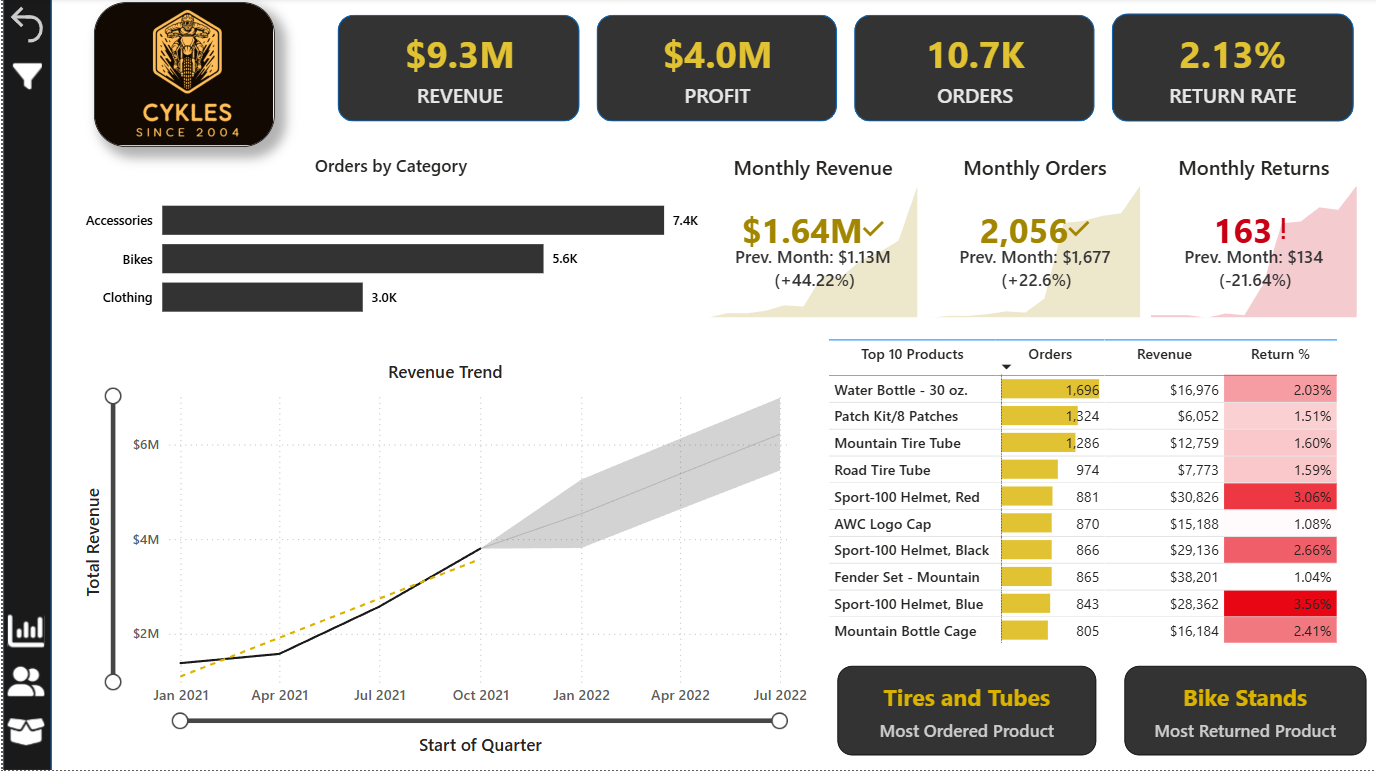

Layout of this report page (visuals, bound fields, positions):
{"tool":"powerbi","page":{"name":"Executive Overview","canvas":[1280,720],"ordinal":0},"visuals":[{"type":"shape","title":"Left Nav BG","box":[0,0,45.4,720.6],"z":0},{"type":"shape","box":[1034.1,14.6,225.6,101.1],"z":0,"group":"g1"},{"type":"group","id":"g1","title":"KPI Backgrounds","box":[312,14.6,947.6,101.1],"z":1000},{"type":"shape","box":[793.9,16.1,224.1,99.6],"z":1000,"group":"g1"},{"type":"actionButton","box":[0,612.9,42.5,46.9],"z":1000,"group":"g3"},{"type":"group","id":"g2","title":"KPI Values","box":[325.1,13.2,922.7,102.5],"z":2000},{"type":"shape","box":[312,16.1,225.6,99.6],"z":2000,"group":"g1"},{"type":"card","fields":{"Values":["Measure Table.Total Revenue"]},"box":[325.1,13.2,202.1,102.5],"z":3000,"group":"g2"},{"type":"shape","box":[553.7,16.1,224.1,99.6],"z":3000,"group":"g1"},{"type":"lineChart","title":"Revenue Trend","fields":{"Y":["Measure Table.Total Revenue"],"Category":["Calendar Lookup.Year","Calendar Lookup.Start of Quarter","Calendar Lookup.Start of Month"]},"box":[70.3,336.9,684,369.1],"z":3000},{"type":"actionButton","box":[0,659.7,42.5,46.9],"z":3000,"group":"g3"},{"type":"card","fields":{"Values":["Measure Table.Total Profit"]},"box":[565.3,13.2,202.1,102.5],"z":4000,"group":"g2"},{"type":"kpi","title":"Monthly Revenue","fields":{"Indicator":["Measure Table.Total Revenue"],"TrendLine":["Calendar Lookup.Start of Month"],"Goal":["Measure Table.Previous Month Revenue"]},"box":[653.2,145,205,158.2],"z":4000},{"type":"actionButton","box":[0,566,42.5,46.9],"z":4000,"group":"g3"},{"type":"card","fields":{"Values":["Measure Table.Total Orders"]},"box":[805.5,13.2,202.1,102.5],"z":5000,"group":"g2"},{"type":"kpi","title":"Monthly Orders","fields":{"TrendLine":["Calendar Lookup.Start of Month"],"Indicator":["Measure Table.Total Orders"],"Goal":["Measure Table.Previous Month Orders"]},"box":[858.3,145,206.5,158.2],"z":5000},{"type":"card","fields":{"Values":["Measure Table.Return Rate"]},"box":[1045.7,13.2,202.1,102.5],"z":6000,"group":"g2"},{"type":"kpi","title":"Monthly Returns","fields":{"TrendLine":["Calendar Lookup.Start of Month"],"Indicator":["Measure Table.Total Returns"],"Goal":["Measure Table.Previous Month Returns"]},"box":[1064.8,145,202.1,158.2],"z":6000},{"type":"barChart","title":"Orders by Category","fields":{"Category":["Product Categories Lookup.CategoryName"],"Y":["Measure Table.Total Orders"]},"box":[70.3,145,582.9,168.4],"z":7000},{"type":"pivotTable","fields":{"Rows":["Product Lookup.ProductName"],"Values":["Measure Table.Total Orders","Measure Table.Total Revenue","Measure Table.Return Rate"]},"box":[764.5,313.4,502.4,298.8],"z":8000},{"type":"card","fields":{"Values":["Min(Product Subcategories Lookup.SubcategoryName)"]},"box":[777.7,622.5,241.7,83.5],"z":9000},{"type":"card","fields":{"Values":["Min(Product Subcategories Lookup.SubcategoryName)"]},"box":[1045.7,622.5,225.6,83.5],"z":10000},{"type":"actionButton","box":[0,0,44.3,48.6],"z":11000},{"type":"group","id":"g3","title":"Page Navigators","box":[0,566,42.5,140.1],"z":12000},{"type":"actionButton","box":[1.4,54.3,42.9,35.7],"z":13000},{"type":"image","box":[84.9,4.4,168.4,134.7],"z":13500}]}

Visuals, with their boxes on the page's 1280x720 design canvas (x1, y1, x2, y2). These are canvas units, not pixel positions in the 1376x771 screenshot, which may show the page scaled, cropped or inside an application window:
"Left Nav BG" shape: 0/0/45/721
shape: 1034/15/1260/116
"KPI Backgrounds" group: 312/15/1260/116
shape: 794/16/1018/116
actionButton: 0/613/42/660
"KPI Values" group: 325/13/1248/116
shape: 312/16/538/116
card - Measure Table.Total Revenue: 325/13/527/116
shape: 554/16/778/116
"Revenue Trend" lineChart: 70/337/754/706
actionButton: 0/660/42/707
card - Measure Table.Total Profit: 565/13/767/116
"Monthly Revenue" kpi: 653/145/858/303
actionButton: 0/566/42/613
card - Measure Table.Total Orders: 806/13/1008/116
"Monthly Orders" kpi: 858/145/1065/303
card - Measure Table.Return Rate: 1046/13/1248/116
"Monthly Returns" kpi: 1065/145/1267/303
"Orders by Category" barChart: 70/145/653/313
pivotTable - Product Lookup.ProductName x Measure Table.Total Orders: 764/313/1267/612
card - Min(Product Subcategories Lookup.SubcategoryName): 778/622/1019/706
card - Min(Product Subcategories Lookup.SubcategoryName): 1046/622/1271/706
actionButton: 0/0/44/49
"Page Navigators" group: 0/566/42/706
actionButton: 1/54/44/90
image: 85/4/253/139
